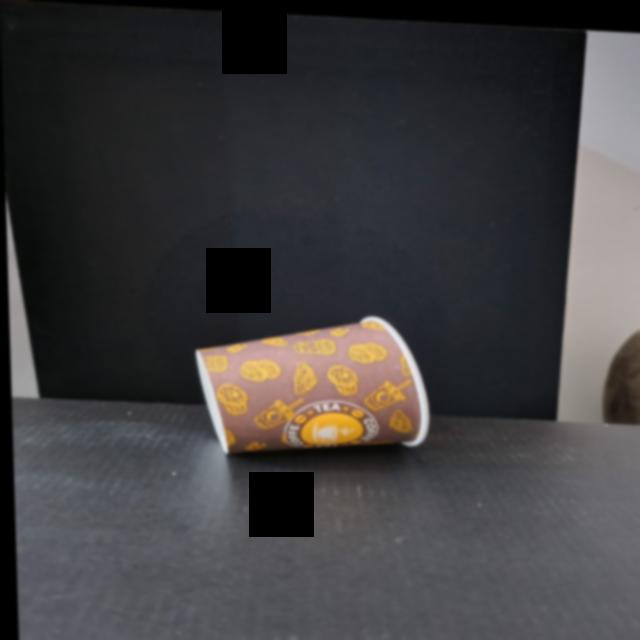cups: (176, 287, 452, 475)
